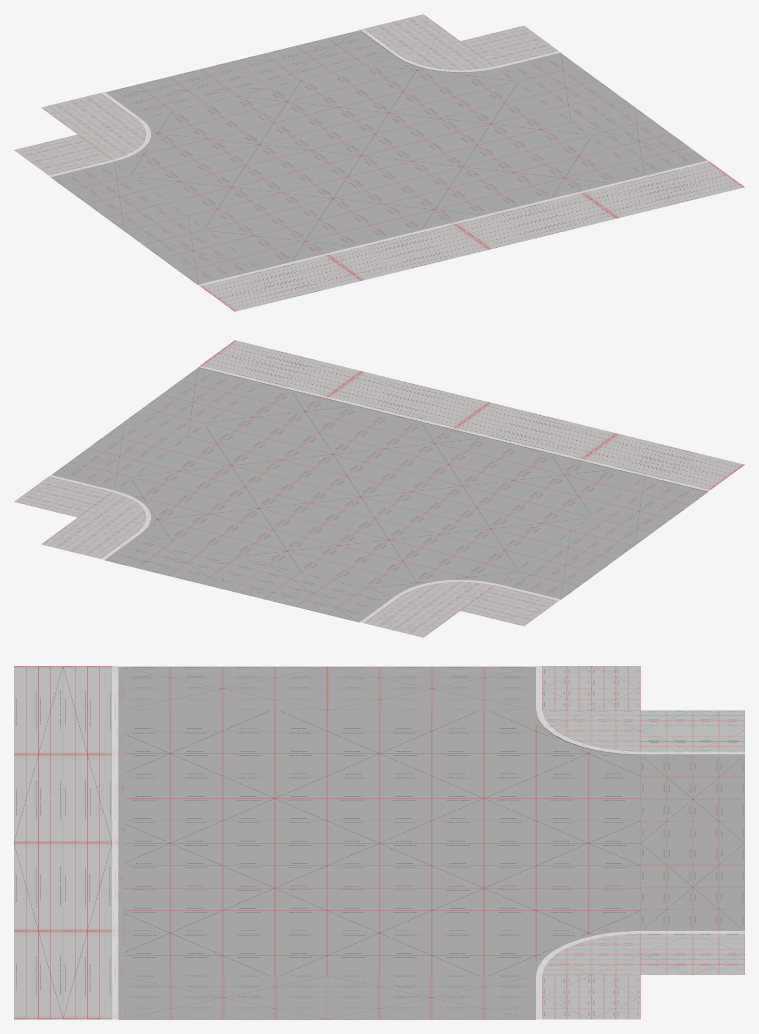
The model's file is T_cross_c.FBX.
The picture shows the model from 3 angles, top to bottom: view 1: azimuth 30°, elevation 25°; view 2: azimuth 150°, elevation 25°; view 3: azimuth 270°, elevation 25°; orthographic projection. The views are drawn at different scales.
Visible parts, largest first — view 1: T_cross_c; view 2: T_cross_c; view 3: T_cross_c.
Boxes of the visible parts, <box> form: T_cross_c: <box>14,14,744,311</box>; T_cross_c: <box>14,340,744,637</box>; T_cross_c: <box>14,666,744,1019</box>.
Bounding box in the file's own units: 160 × 140 × 0.1384.
